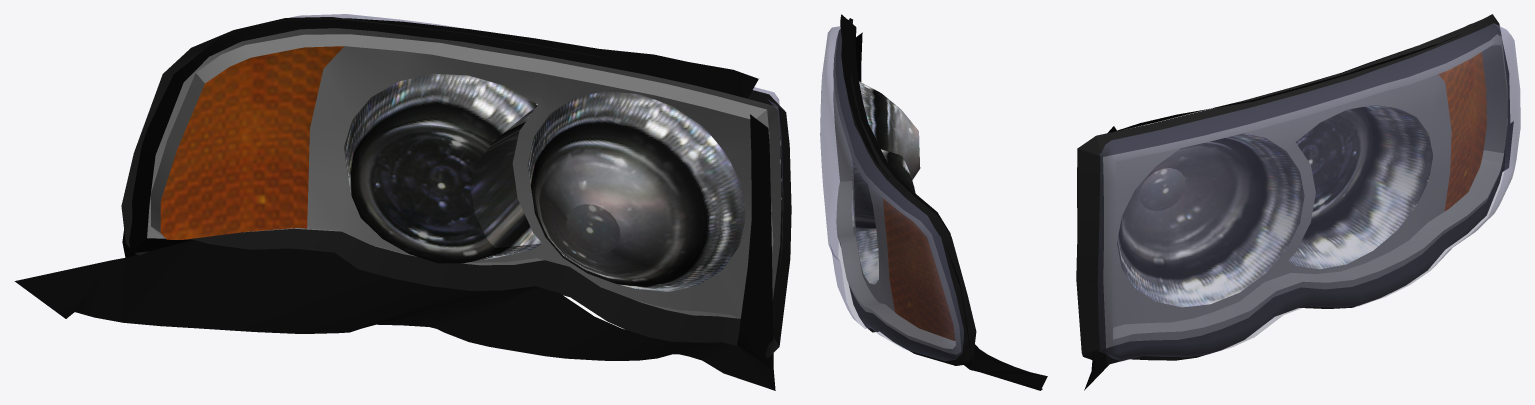
3 renders of one model, left to right at view 1: azimuth 30°, elevation 25°; view 2: azimuth 150°, elevation 25°; view 3: azimuth 270°, elevation 25°, orthographic. The views are drawn at different scales.
Visible parts, largest first — view 1: N826_061B_L_N826_061B_L_7_D, N826_061B_L_N826_061B_L_3_DaS, N826_061B_L_N826_061B_L_2_N, N826_061B_L_1_N_N826_061B_L, N826_061B_L_N826_061B_L_4_N, N826_061B_L_N826_061B_L_5_D, N826_061B_L_N826_061B_L_6_DTaSI; view 2: N826_061B_L_N826_061B_L_6_DTaSI, N826_061B_L_N826_061B_L_3_DaS, N826_061B_L_N826_061B_L_5_D, N826_061B_L_N826_061B_L_4_N, N826_061B_L_N826_061B_L_7_D, N826_061B_L_N826_061B_L_2_N, N826_061B_L_1_N_N826_061B_L; view 3: N826_061B_L_N826_061B_L_6_DTaSI, N826_061B_L_N826_061B_L_3_DaS, N826_061B_L_N826_061B_L_2_N, N826_061B_L_N826_061B_L_5_D, N826_061B_L_1_N_N826_061B_L, N826_061B_L_N826_061B_L_4_N, N826_061B_L_N826_061B_L_7_D.
Boxes of the visible parts, x1,y1,x2,y2 form: N826_061B_L_N826_061B_L_7_D: (14, 18, 775, 390); N826_061B_L_N826_061B_L_3_DaS: (147, 28, 781, 318); N826_061B_L_N826_061B_L_2_N: (527, 91, 745, 291); N826_061B_L_1_N_N826_061B_L: (344, 73, 542, 263); N826_061B_L_N826_061B_L_4_N: (160, 46, 344, 239); N826_061B_L_N826_061B_L_5_D: (121, 17, 791, 358); N826_061B_L_N826_061B_L_6_DTaSI: (184, 14, 782, 238); N826_061B_L_N826_061B_L_6_DTaSI: (820, 26, 963, 360); N826_061B_L_N826_061B_L_3_DaS: (833, 33, 961, 354); N826_061B_L_N826_061B_L_5_D: (835, 18, 976, 365); N826_061B_L_N826_061B_L_4_N: (882, 198, 955, 340); N826_061B_L_N826_061B_L_7_D: (840, 14, 1047, 390); N826_061B_L_N826_061B_L_2_N: (851, 81, 920, 227); N826_061B_L_1_N_N826_061B_L: (853, 149, 915, 284); N826_061B_L_N826_061B_L_6_DTaSI: (1098, 23, 1520, 361); N826_061B_L_N826_061B_L_3_DaS: (1103, 34, 1507, 348); N826_061B_L_N826_061B_L_2_N: (1117, 133, 1304, 307); N826_061B_L_N826_061B_L_5_D: (1076, 14, 1503, 364); N826_061B_L_1_N_N826_061B_L: (1288, 105, 1432, 269); N826_061B_L_N826_061B_L_4_N: (1438, 52, 1486, 210); N826_061B_L_N826_061B_L_7_D: (1084, 24, 1513, 390).
Size of the model in its own units: 36.44 by 19.52 by 29.5.
